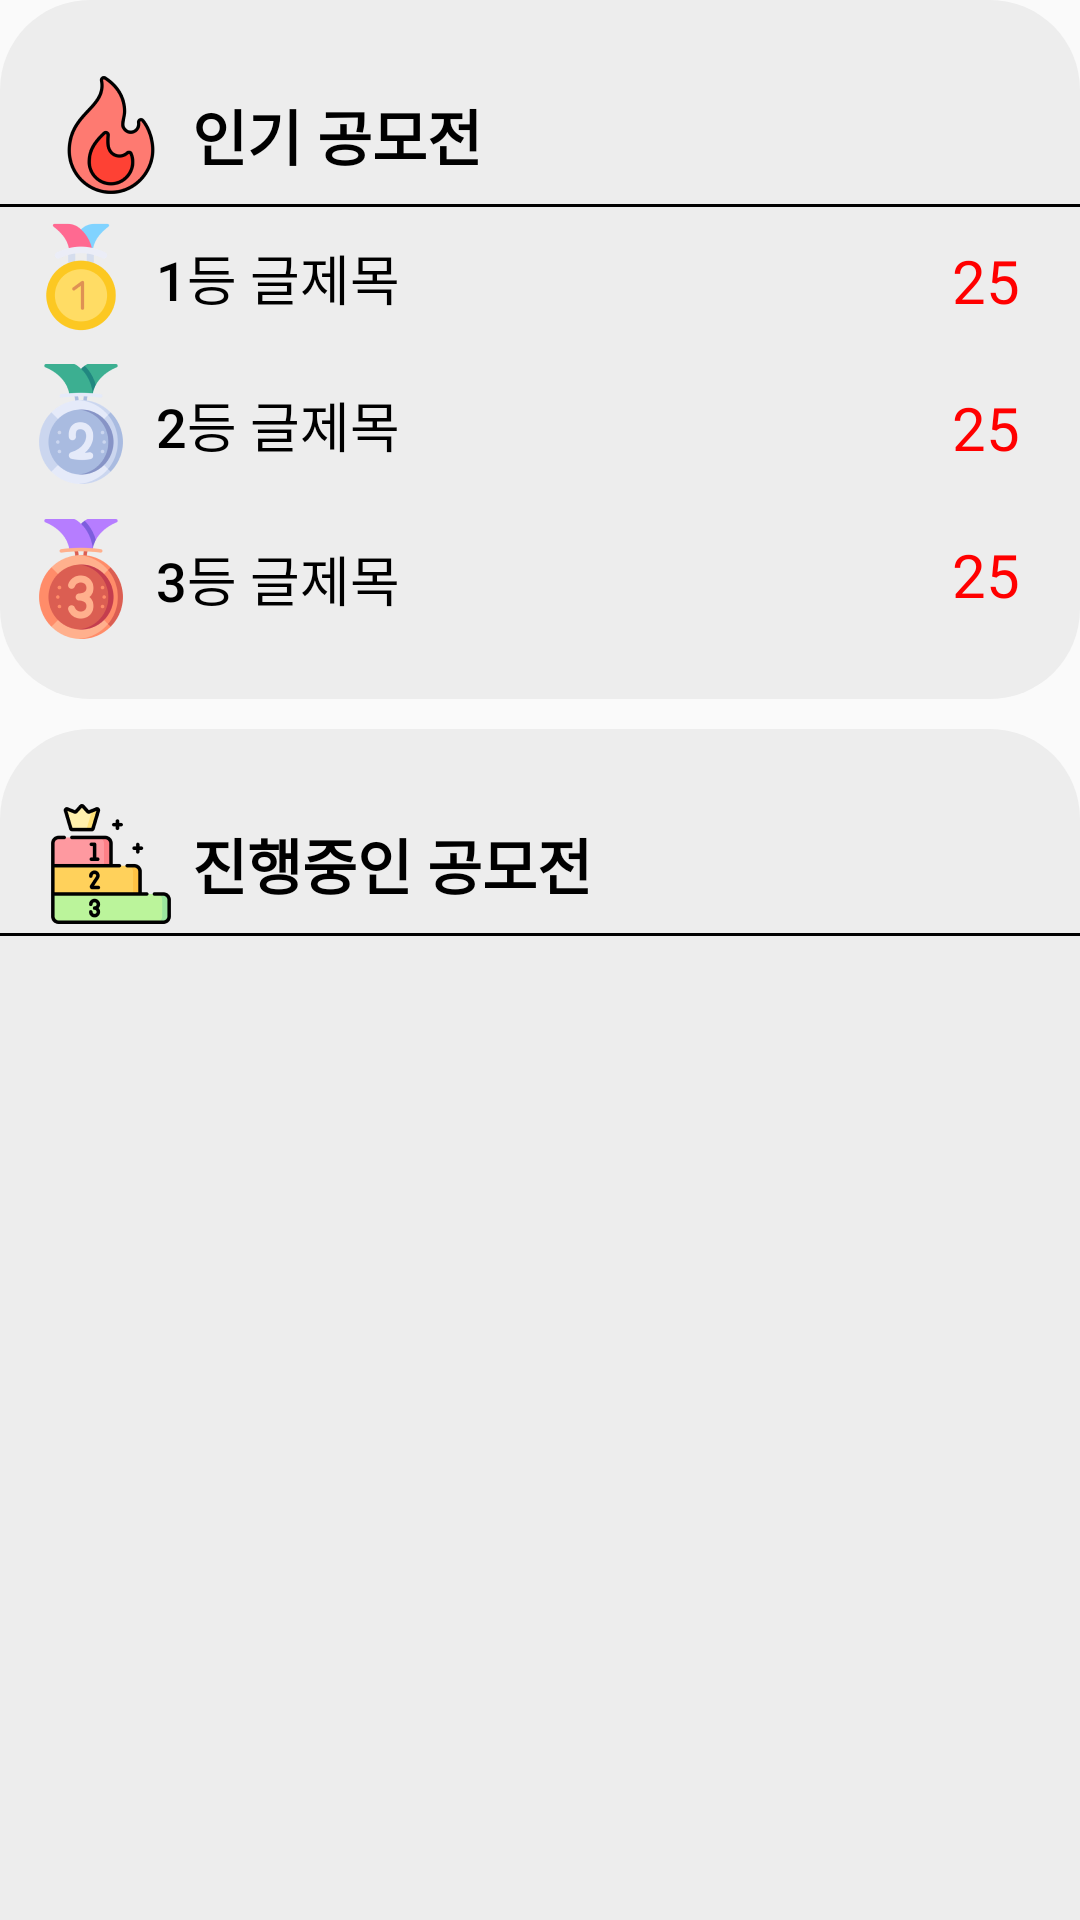

Icon bounding boxes for this 1080w x 1920h phone screenshot, format (x1, y1, x2, y2):
fire: (67, 76, 155, 194)
